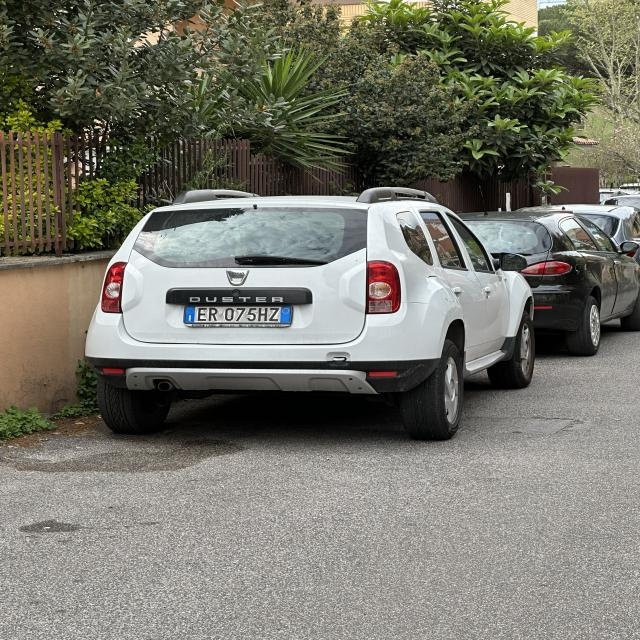number_plate: (184, 306, 292, 327)
